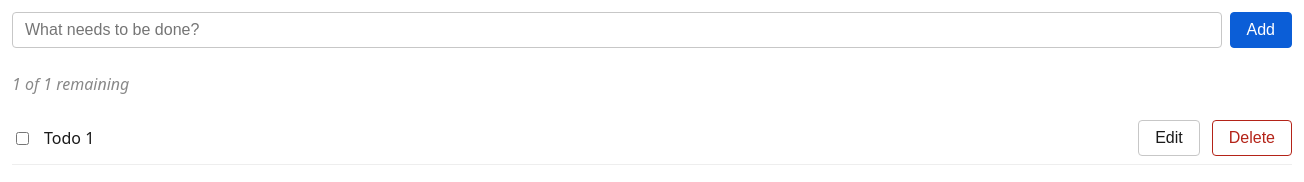
Scenario: TodoList › toggles a todo via PATCH
Click the checkbox: (22, 138) top-left (16, 132), bottom-right (29, 144)
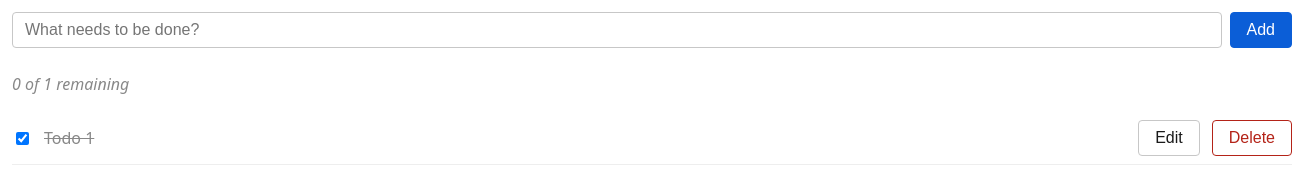
Now the text with test id "remaining-count" shows "0 of 1", box top-left (12, 73), bottom-right (129, 95)
